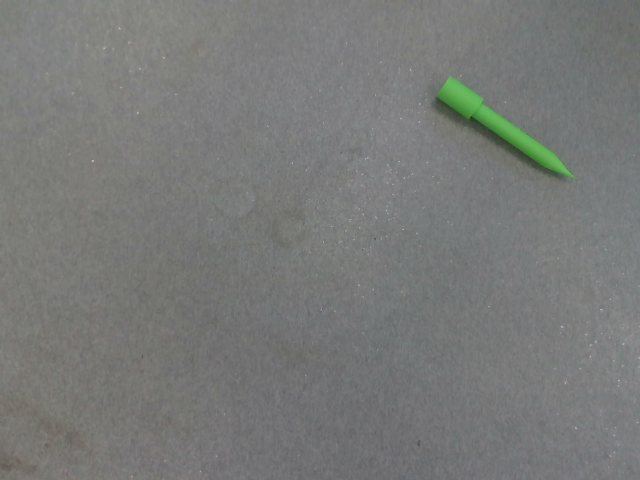Probe: (430, 72, 583, 188)
